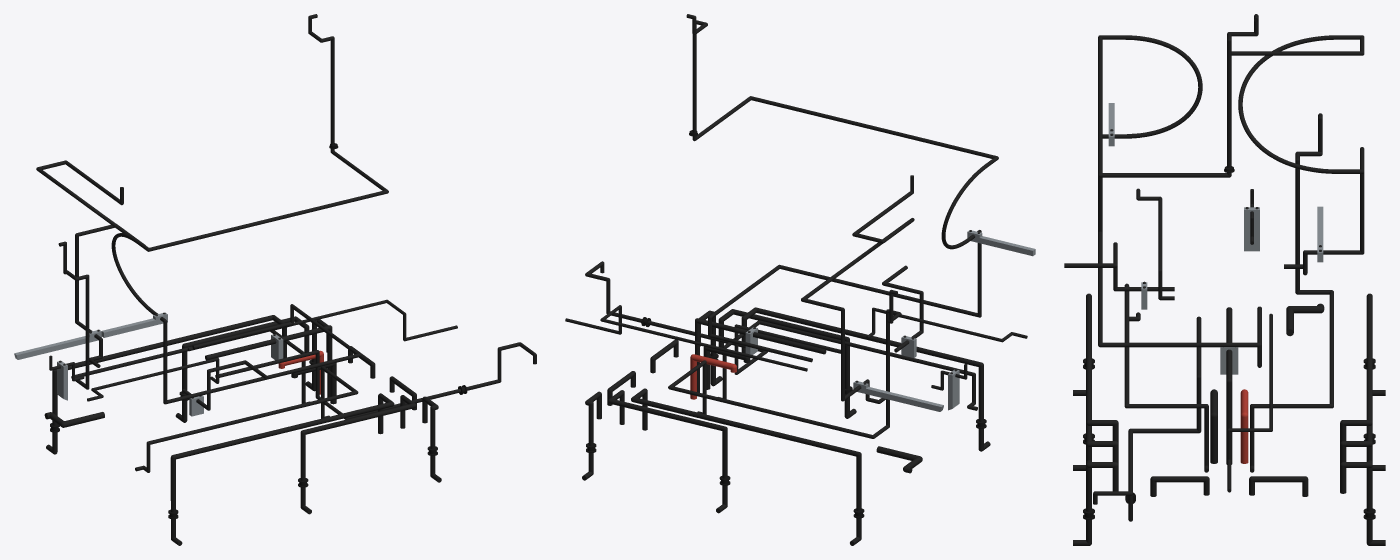
The model's file is group_wiring.glb.
The picture shows the model from 3 angles, left to right: view 1: azimuth 30°, elevation 25°; view 2: azimuth 150°, elevation 25°; view 3: azimuth 270°, elevation 25°; orthographic projection. The views are drawn at different scales.
Parts seen in each view (by area): view 1: cable_camera01, cable_motor_RR, cable_antenna, cable_motor_RL, cable_estop, cable_camera02, cable_power_switch, cable_motor_MR, cable_motor_ML, cable_compute_power, cable_lightbar_front, cable_lightbar_rear (+2 smaller); view 2: cable_camera01, cable_estop, cable_motor_RL, cable_motor_RR, cable_antenna, cable_camera02, cable_power_switch, cable_motor_ML, cable_lightbar_front, cable_motor_MR, cable_compute_power, pclip_5 (+4 smaller); view 3: cable_camera01, cable_antenna, cable_estop, cable_camera02, cable_power_switch, cable_motor_RL, cable_motor_RR, cable_motor_FL, cable_lightbar_front, cable_compute_power, cable_motor_FR, cable_camera03 (+9 smaller).
Part boxes in pixels (left/top/right/bottom): cable_camera01: left=111, top=14, right=388, bottom=404; cable_motor_RR: left=170, top=393, right=394, bottom=545; cable_antenna: left=36, top=160, right=145, bottom=367; cable_motor_RL: left=46, top=315, right=286, bottom=454; cable_estop: left=58, top=241, right=309, bottom=403; cable_camera02: left=215, top=342, right=536, bottom=419; cable_power_switch: left=135, top=366, right=358, bottom=472; cable_motor_MR: left=300, top=395, right=416, bottom=514; cable_motor_ML: left=175, top=316, right=309, bottom=422; cable_compute_power: left=205, top=325, right=332, bottom=397; cable_lightbar_front: left=187, top=299, right=457, bottom=351; cable_lightbar_rear: left=87, top=357, right=219, bottom=401; cable_camera01: left=686, top=14, right=998, bottom=362; cable_estop: left=668, top=289, right=901, bottom=438; cable_motor_RL: left=631, top=388, right=861, bottom=545; cable_motor_RR: left=741, top=307, right=990, bottom=451; cable_antenna: left=801, top=175, right=914, bottom=403; cable_camera02: left=585, top=261, right=840, bottom=374; cable_power_switch: left=718, top=320, right=977, bottom=410; cable_motor_ML: left=608, top=390, right=727, bottom=513; cable_lightbar_front: left=565, top=305, right=807, bottom=371; cable_motor_MR: left=718, top=309, right=856, bottom=418; cable_compute_power: left=695, top=318, right=826, bottom=392; pclip_5: left=853, top=385, right=943, bottom=411; cable_camera01: left=1098, top=14, right=1261, bottom=367; cable_antenna: left=1231, top=35, right=1364, bottom=275; cable_estop: left=1250, top=113, right=1333, bottom=472; cable_camera02: left=1093, top=316, right=1201, bottom=521; cable_power_switch: left=1124, top=283, right=1208, bottom=472; cable_motor_RL: left=1340, top=293, right=1385, bottom=443; cable_motor_RR: left=1073, top=293, right=1118, bottom=442; cable_motor_FL: left=1340, top=460, right=1385, bottom=545; cable_lightbar_front: left=1227, top=313, right=1272, bottom=492; cable_compute_power: left=1226, top=307, right=1232, bottom=464; cable_motor_FR: left=1073, top=460, right=1118, bottom=545; cable_camera03: left=1064, top=242, right=1174, bottom=291.
Size of the model in its own units: 777 by 729 by 424.
